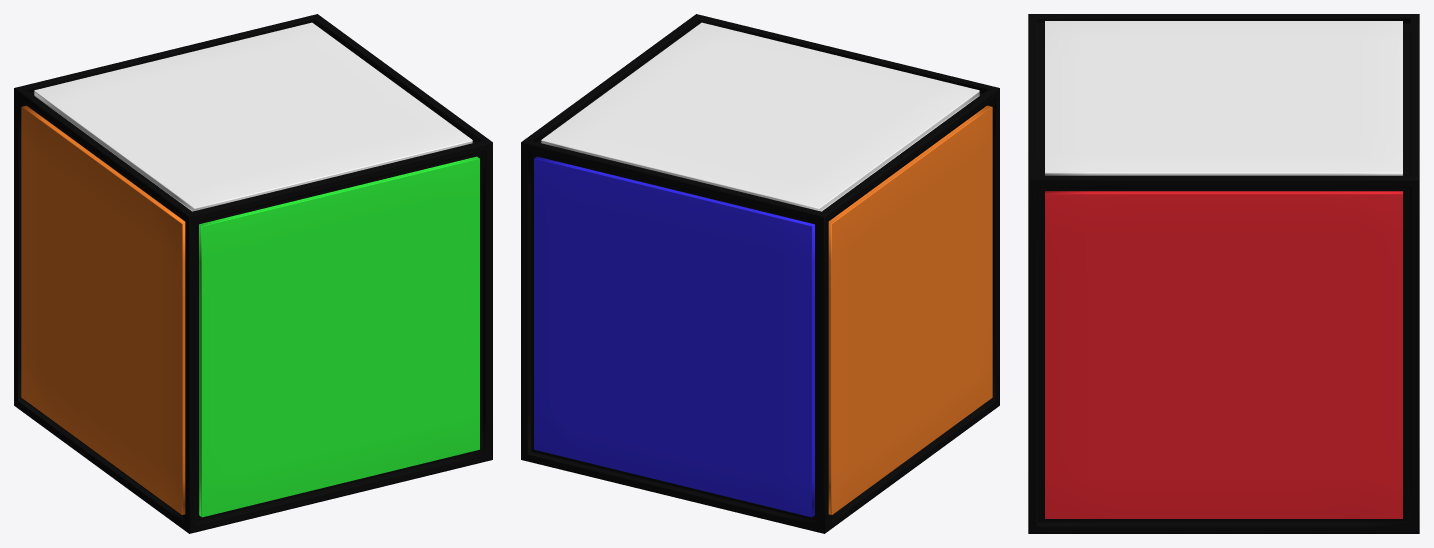
Rendered from flipped.glb.
The picture shows the model from 3 angles, left to right: view 1: azimuth 30°, elevation 25°; view 2: azimuth 150°, elevation 25°; view 3: azimuth 270°, elevation 25°; orthographic projection. The views are drawn at different scales.
Bounding box in the file's own units: 2 × 2 × 2.
